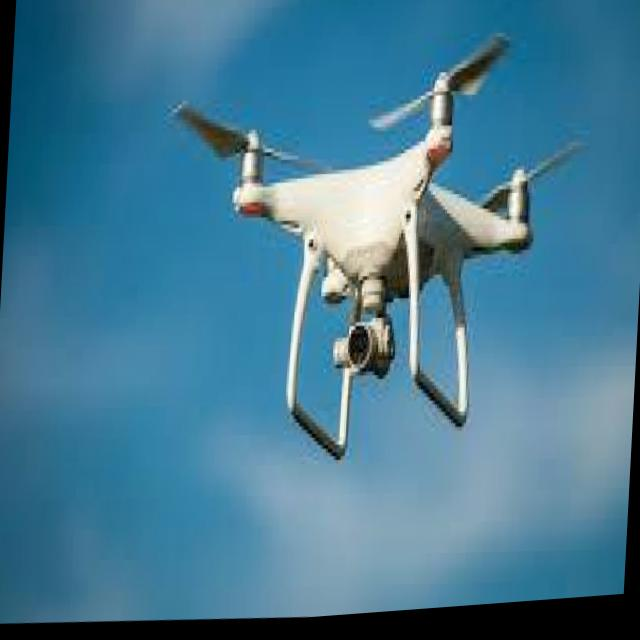drone: (123, 0, 610, 497)
